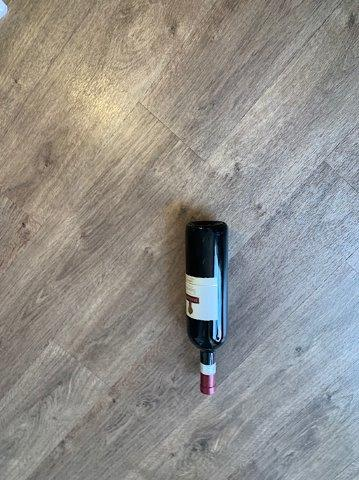botolkaca: (185, 220, 230, 395)
